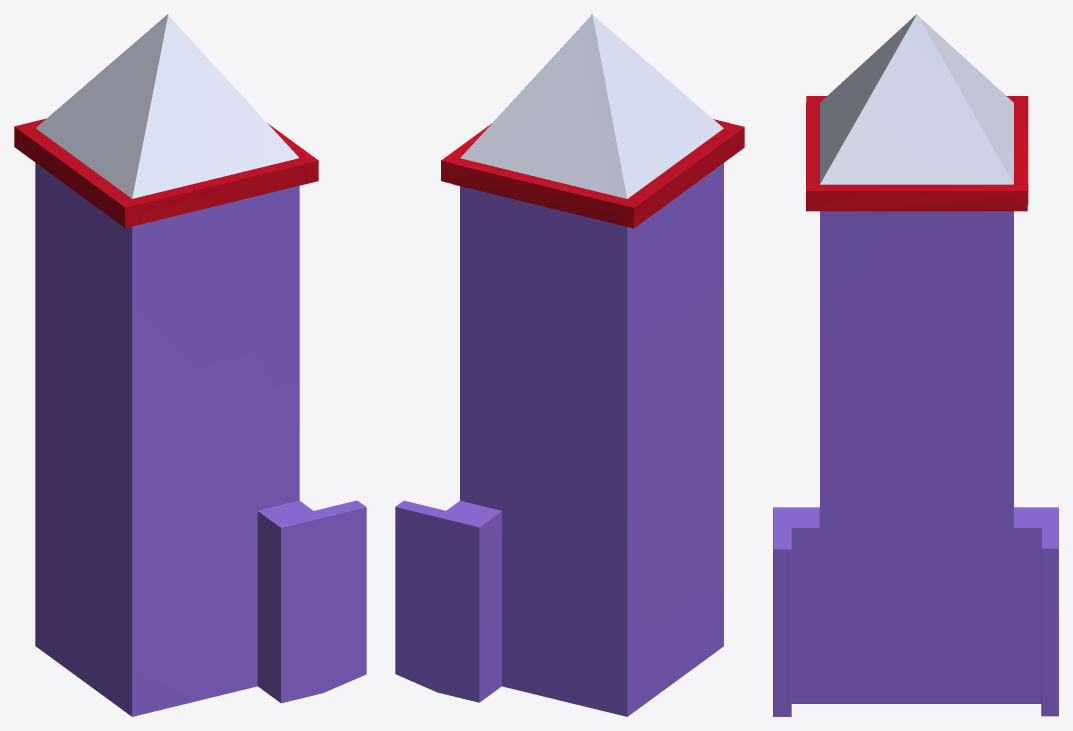
The model's file is obelikss.fbx.
The picture shows the model from 3 angles, left to right: view 1: azimuth 30°, elevation 25°; view 2: azimuth 150°, elevation 25°; view 3: azimuth 270°, elevation 25°; orthographic projection.
Visible parts, largest first — view 1: Cube; view 2: Cube; view 3: Cube.
Part boxes in pixels (box(x1,y1,x2,y2)): Cube: box(14, 14, 366, 716); Cube: box(395, 14, 744, 716); Cube: box(773, 14, 1058, 716).
Size of the model in its own units: 268 by 737 by 294.
